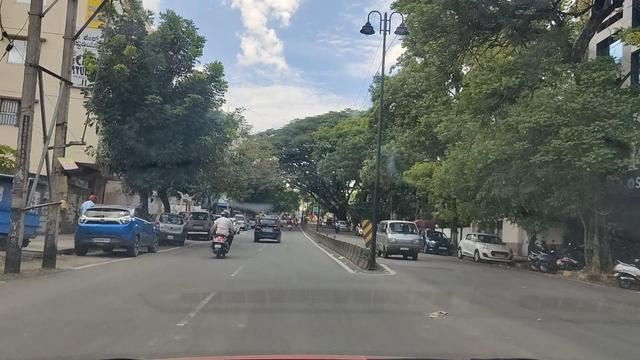LMV: (79, 210, 162, 259), (252, 214, 287, 249), (213, 213, 234, 259)
